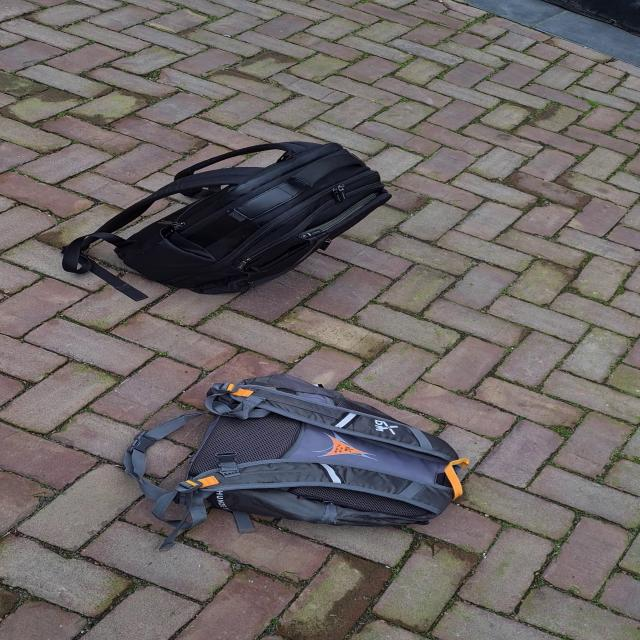backpack: (112, 368, 469, 531), (88, 136, 404, 298)
